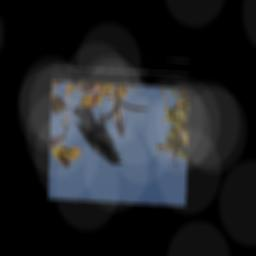Crow: (71, 106, 125, 165)
